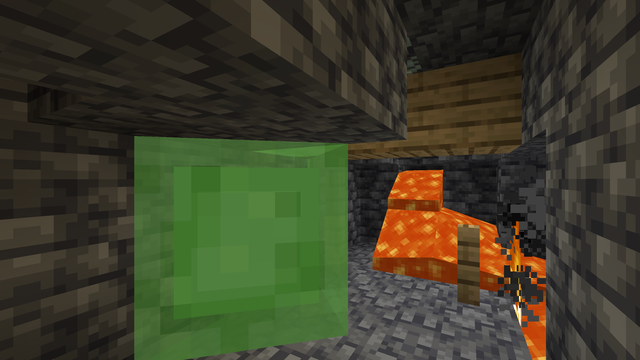slimes: (173, 136, 353, 350)
